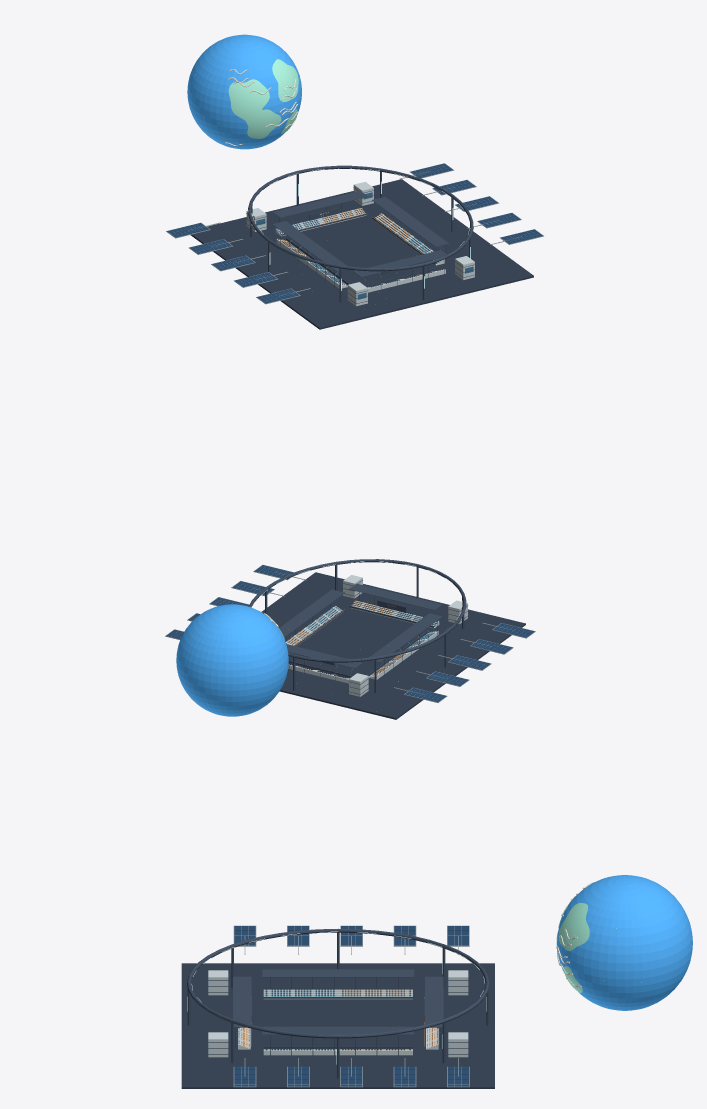
File: orbital.glb
3 renders of one model, top to bottom at view 1: azimuth 30°, elevation 25°; view 2: azimuth 150°, elevation 25°; view 3: azimuth 270°, elevation 25°, orthographic. The views are drawn at different scales.
Parts seen in each view (by area): view 1: orbital_Scenery_ground, orbital_Venue_structural_steel, orbital_Ocean_blue_planet, orbital_Pale_stone_or_snow, orbital_Solar_cell_navy, orbital_Planet_continents, orbital_Satin_rail_metal; view 2: orbital_Scenery_ground, orbital_Ocean_blue_planet, orbital_Venue_structural_steel, orbital_Pale_stone_or_snow, orbital_Solar_cell_navy, orbital_Satin_rail_metal; view 3: orbital_Scenery_ground, orbital_Ocean_blue_planet, orbital_Venue_structural_steel, orbital_Pale_stone_or_snow, orbital_Solar_cell_navy, orbital_Satin_rail_metal, orbital_Planet_continents, orbital_Orange_end_seating.
Boxes of the visible parts, box(x1,y1,x2,y2) form: orbital_Scenery_ground: box(190, 179, 533, 329); orbital_Venue_structural_steel: box(246, 165, 475, 303); orbital_Ocean_blue_planet: box(187, 34, 301, 149); orbital_Pale_stone_or_snow: box(246, 181, 474, 306); orbital_Solar_cell_navy: box(167, 163, 542, 303); orbital_Planet_continents: box(228, 59, 298, 138); orbital_Satin_rail_metal: box(166, 163, 543, 304); orbital_Scenery_ground: box(262, 572, 525, 719); orbital_Ocean_blue_planet: box(176, 604, 288, 716); orbital_Venue_structural_steel: box(248, 559, 468, 694); orbital_Pale_stone_or_snow: box(285, 575, 467, 696); orbital_Solar_cell_navy: box(166, 565, 534, 702); orbital_Satin_rail_metal: box(165, 564, 535, 702); orbital_Scenery_ground: box(181, 963, 494, 1088); orbital_Ocean_blue_planet: box(557, 875, 692, 1010); orbital_Venue_structural_steel: box(187, 928, 489, 1078); orbital_Pale_stone_or_snow: box(208, 970, 468, 1057); orbital_Solar_cell_navy: box(234, 926, 468, 1086); orbital_Satin_rail_metal: box(233, 925, 469, 1087); orbital_Planet_continents: box(556, 896, 589, 993); orbital_Orange_end_seating: box(239, 989, 437, 1050).
Size of the model in its own units: 455 by 132 by 509.
